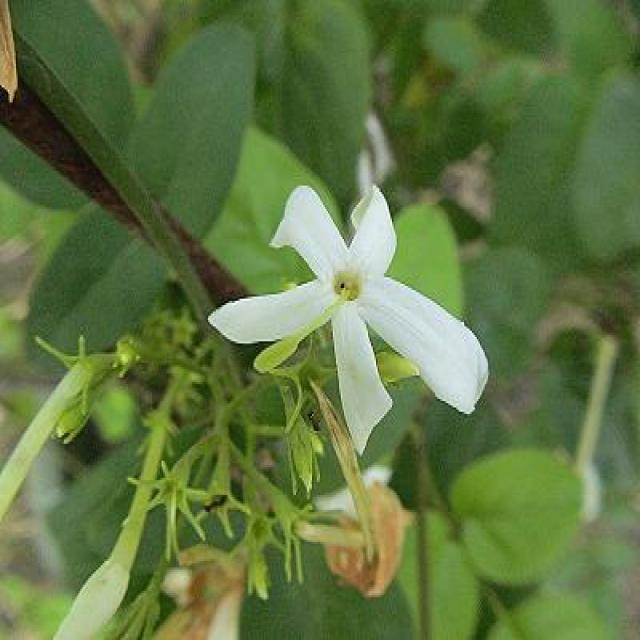organic waste: (187, 179, 504, 446)
